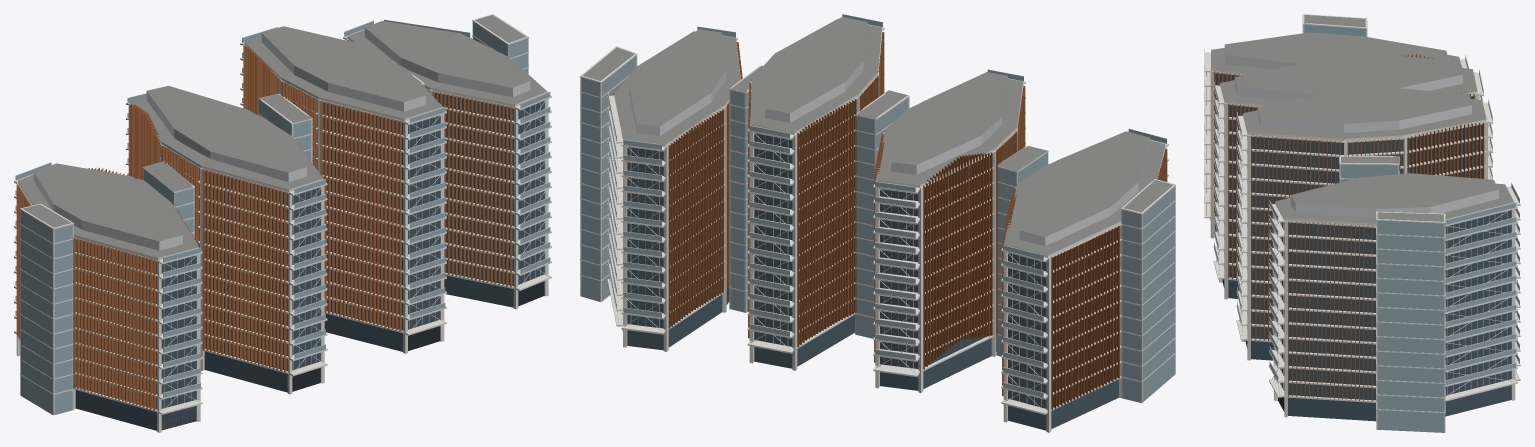
The model's file is one_hyde_park.glb.
The picture shows the model from 3 angles, left to right: view 1: azimuth 30°, elevation 25°; view 2: azimuth 150°, elevation 25°; view 3: azimuth 270°, elevation 25°; orthographic projection. The views are drawn at different scales.
Size of the model in its own units: 125 by 60.53 by 68.77.
